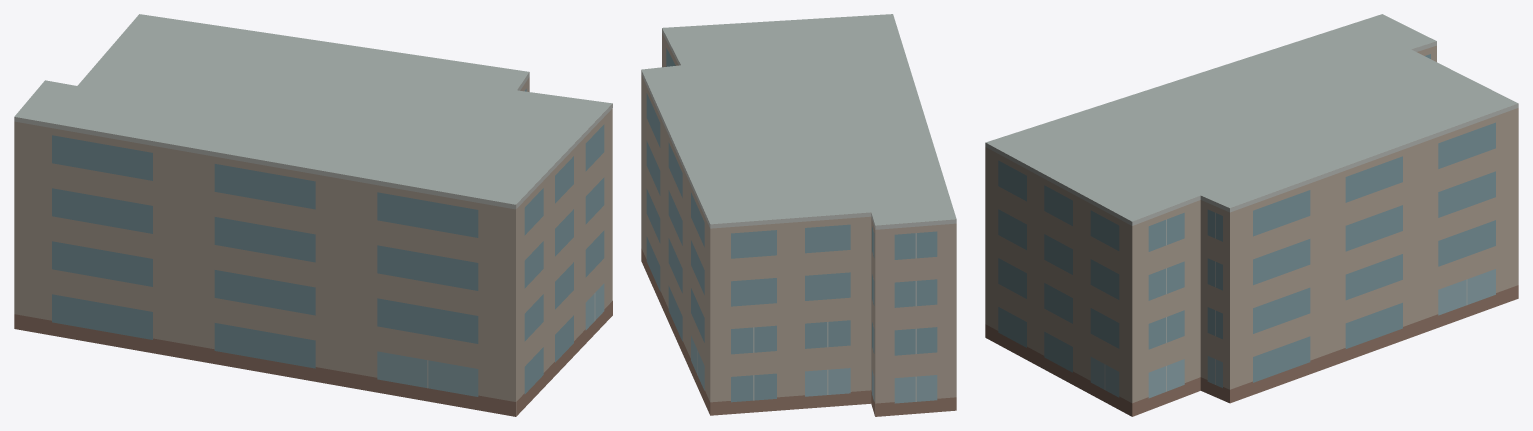
File: survey-upis-32929456.glb
3 renders of one model, left to right at view 1: azimuth 30°, elevation 25°; view 2: azimuth 150°, elevation 25°; view 3: azimuth 270°, elevation 25°, orthographic. The views are drawn at different scales.
Visible parts, largest first — view 1: survey-upis-32929456.tmp; view 2: survey-upis-32929456.tmp; view 3: survey-upis-32929456.tmp.
Part boxes in pixels (x1,y1,x2,y2): survey-upis-32929456.tmp: [14, 14, 612, 416]; survey-upis-32929456.tmp: [641, 14, 956, 416]; survey-upis-32929456.tmp: [985, 14, 1518, 416].
Size of the model in its own units: 25.12 by 11 by 27.24.
